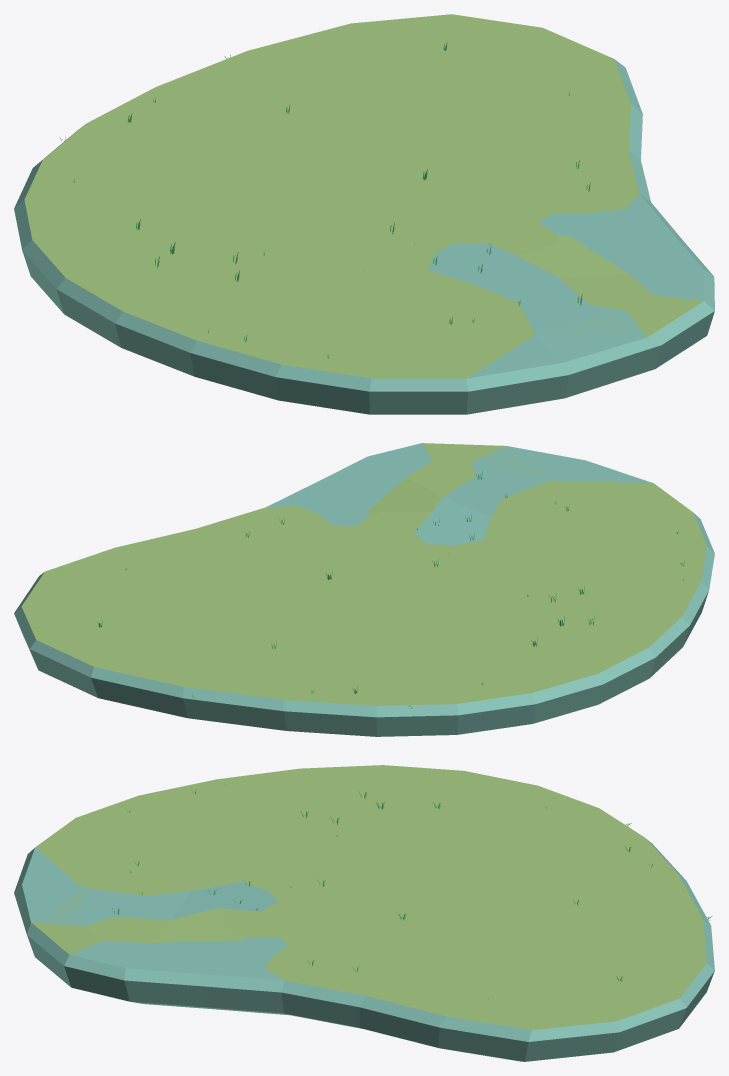
Rendered from sea_island2_addroad2.fbx.
3 views of the same model, one above another, from view 1: azimuth 30°, elevation 25°; view 2: azimuth 150°, elevation 25°; view 3: azimuth 270°, elevation 25° (orthographic). The views are drawn at different scales.
Visible parts, largest first — view 1: Circle.004; view 2: Circle.004; view 3: Circle.004.
Boxes of the visible parts, <box> form: Circle.004: <box>14,14,714,414</box>; Circle.004: <box>14,443,714,736</box>; Circle.004: <box>14,765,714,1061</box>.
Bounding box in the file's own units: 4799 × 399 × 5212.
